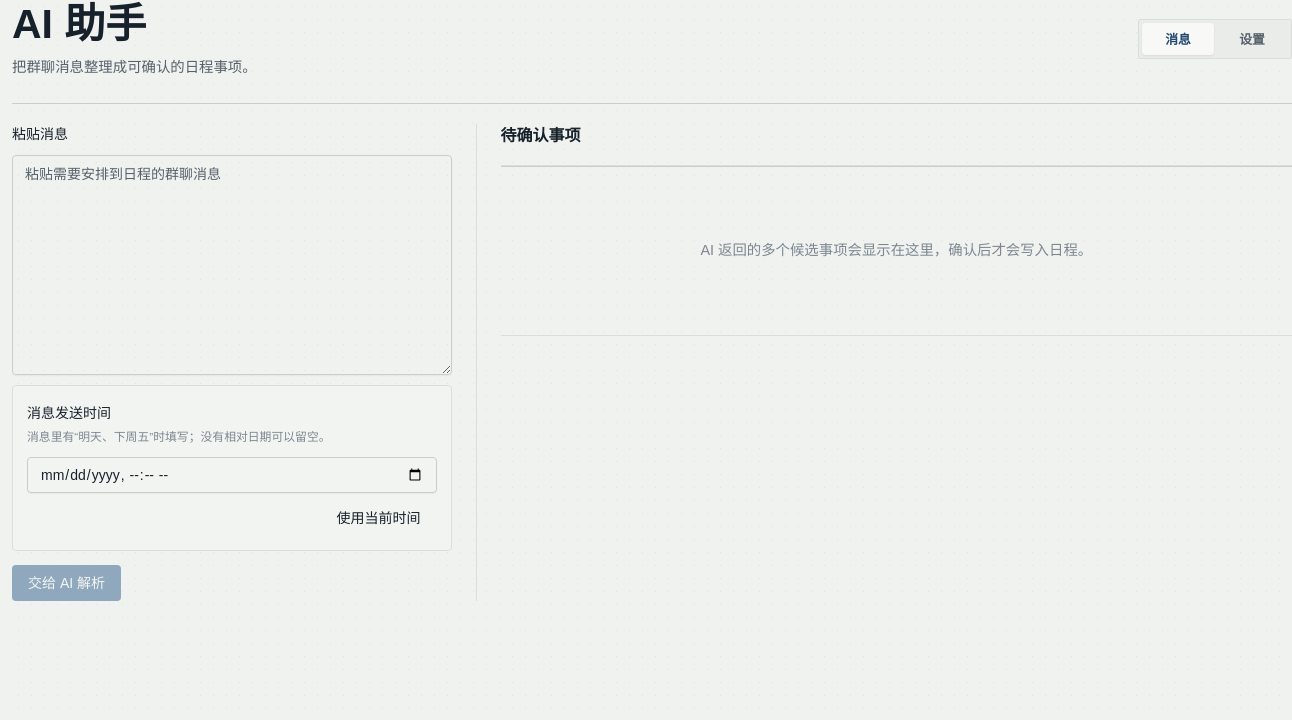
Test: AssistantView › presents message time as an optional context control
The image size is (1292, 720).
expect the text "消息发送时间" is shown: met, box [27,405,111,421]
Click the button "使用当前时间". click: (379, 518)
box: [321,500,437,536]
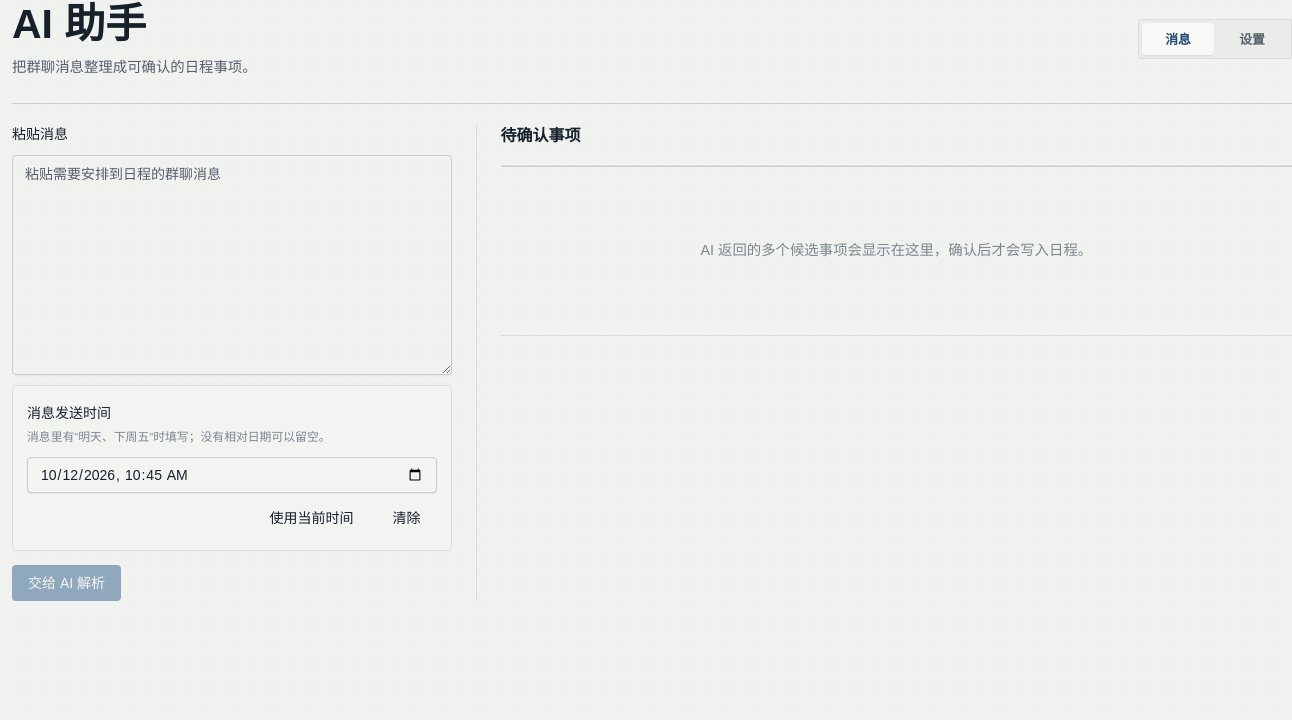
expect the field labelled "消息发送时间" is not empty: met, box [27,456,437,492]
Click the button "清除". click: (407, 518)
box: [377,500,437,536]
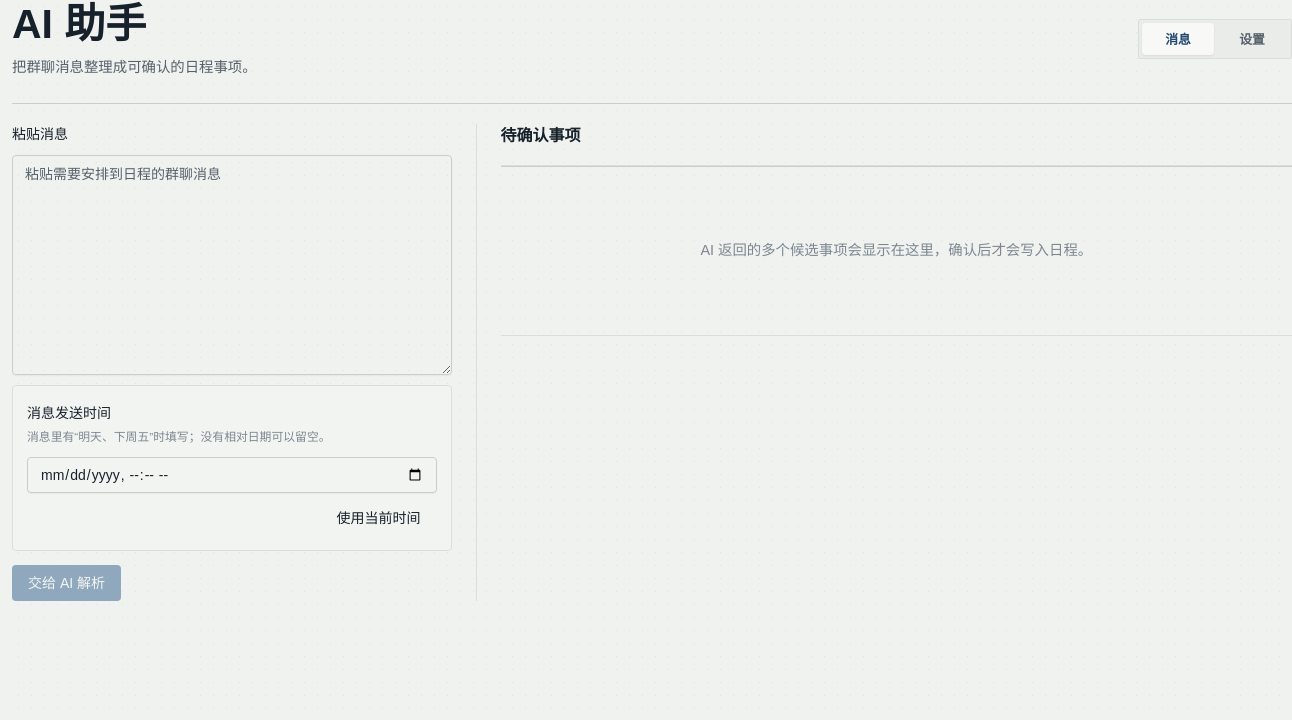
expect the field labelled "消息发送时间" is empty: met, box [27,456,437,492]
